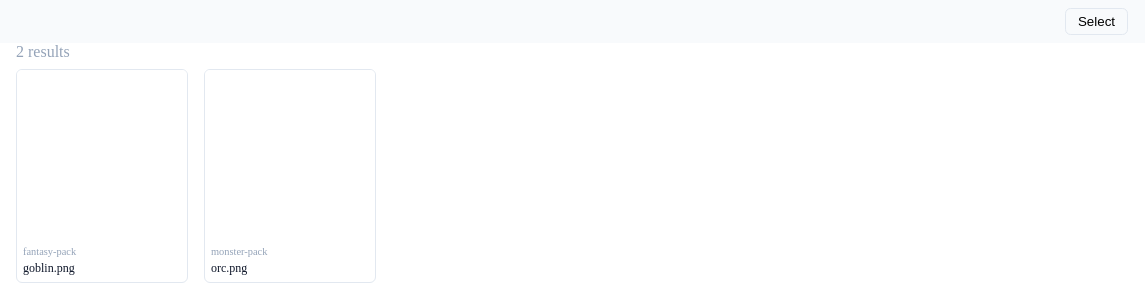
Test: AssetGrid › shows add-to-cart button on hover
Hover over the element with class "asset-item" showing "fantasy-pack goblin.png".
mouse_move(102, 176)  # box top-left (16, 69), bottom-right (188, 283)
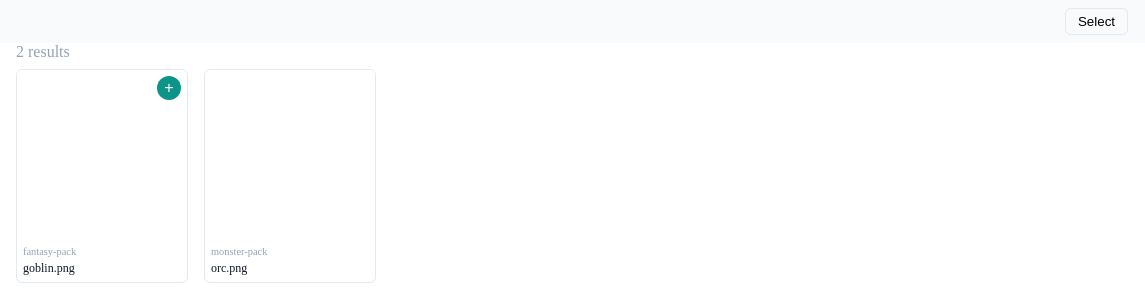
Now the button with class "add-cart-btn" is shown, box top-left (157, 76), bottom-right (181, 100)
